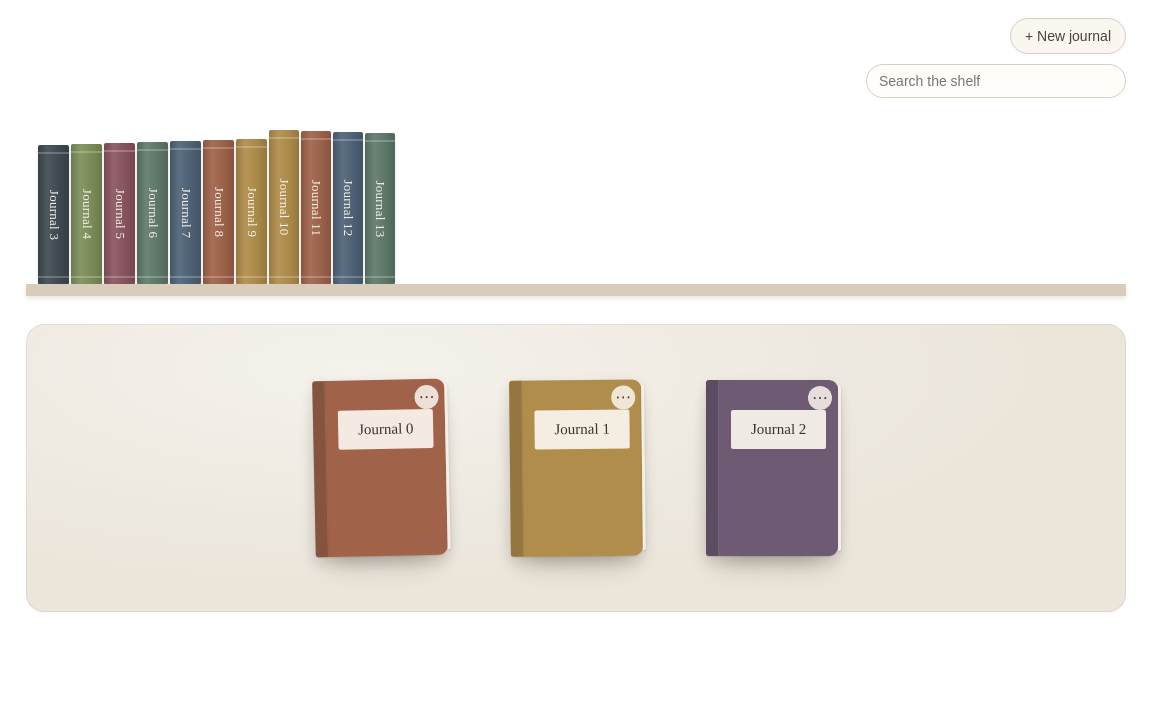
Test case: shelf search › appears with many shelved journals and filters spines by name, case-insensitively
The width and height of the screenshot is (1152, 720).
Type "journal 1" into the search field labelled "Search the shelf".
click(996, 81); type("journal 1")  # box [866, 64, 1126, 98]
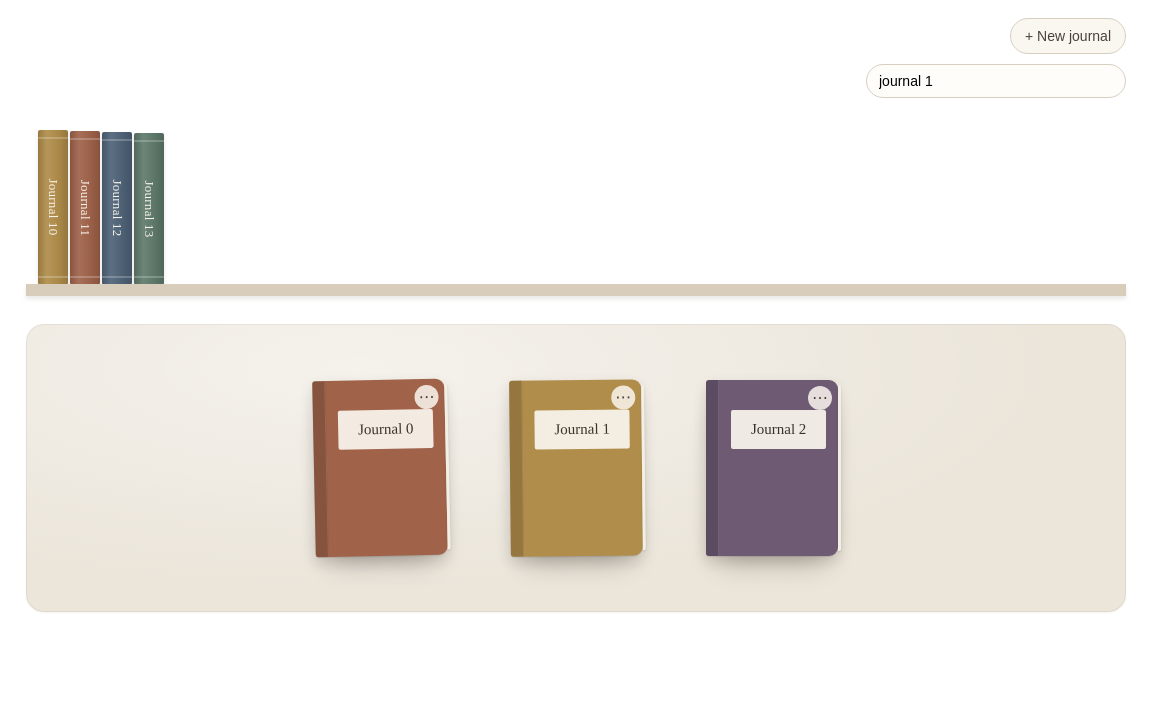
Replace the text in the search field named "Search the shelf" with "nothing like this" at (996, 81), box [866, 64, 1126, 98]
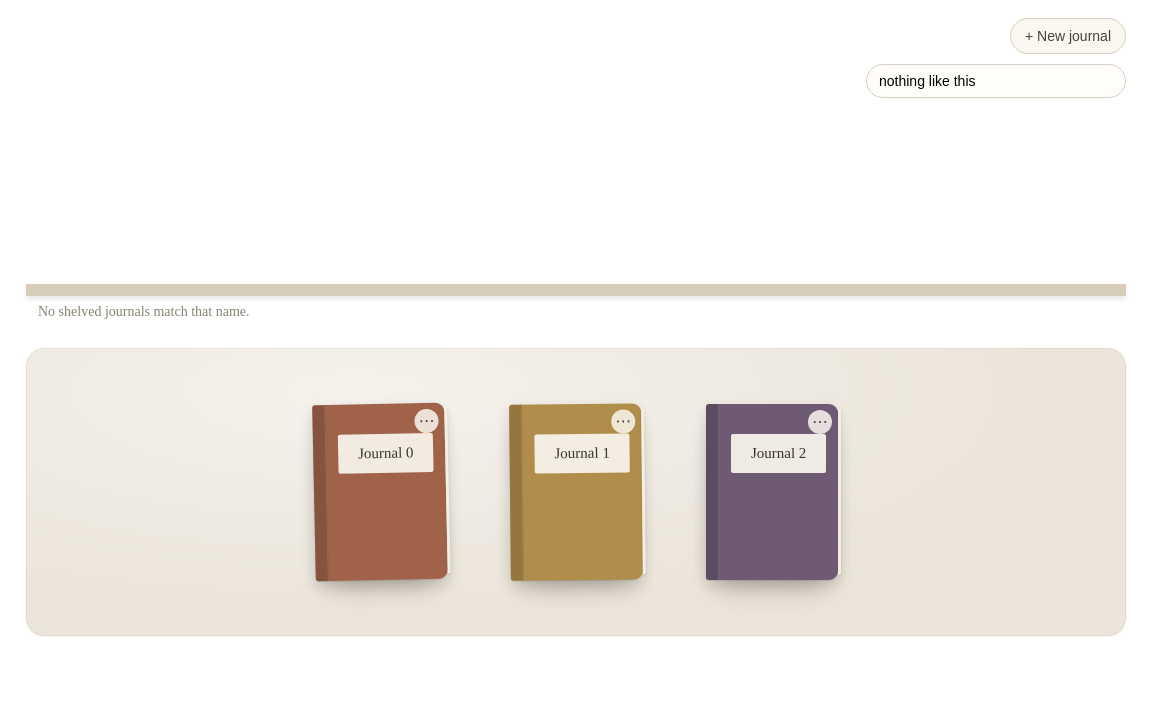
Check: the text "No shelved journals match that name." is shown, box [38, 304, 250, 319]
